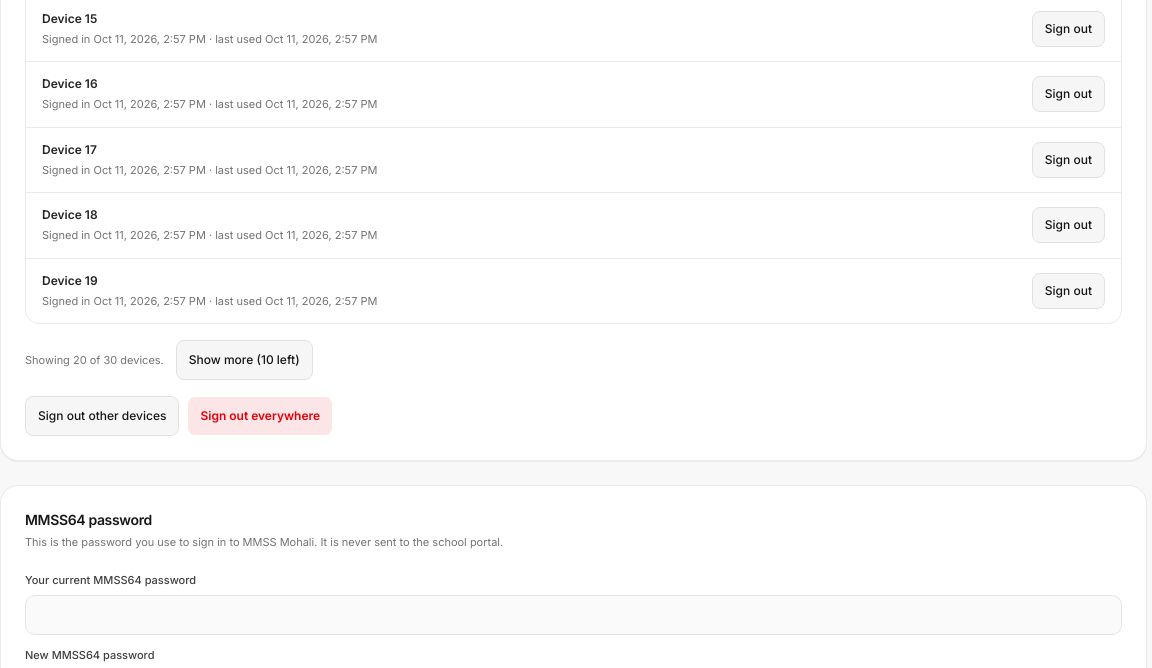
Test: AccountSecurityPanel pagination › appends the next page rather than replacing the one already shown
(page scrolled)
Expected: the text "Showing 20 of 30 devices." is shown, 25,352 -> 164,368
Click the button "Show more (10 left)" at (244, 360), box 176,340 -> 313,380
(page scrolled)
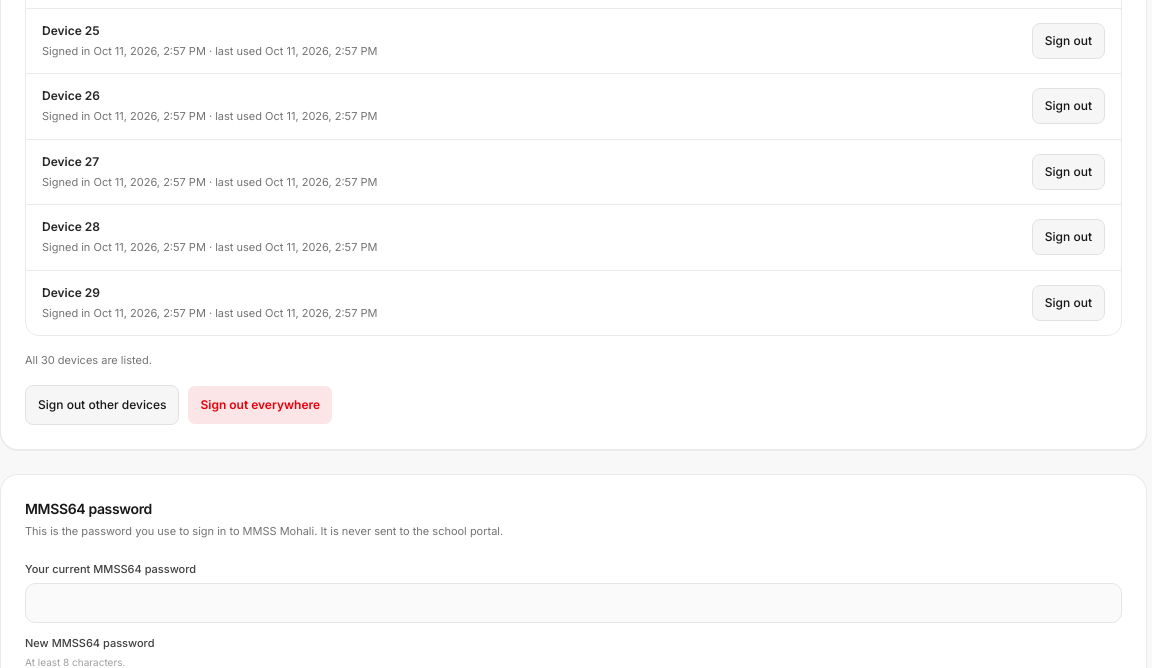
Now the text "Device 29" is shown, box 42,285 -> 100,301
Now the button "Show more" is gone
Now the text "All 30 devices are listed." is shown, box 25,353 -> 152,367
